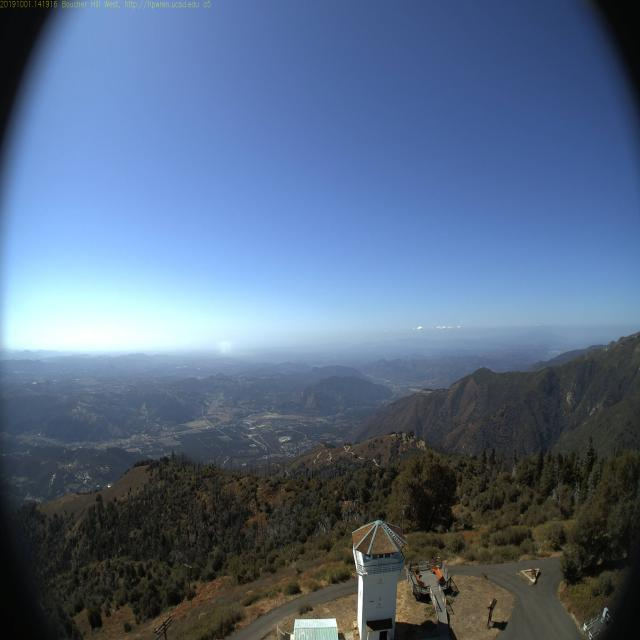smoke: (211, 336, 234, 356)
